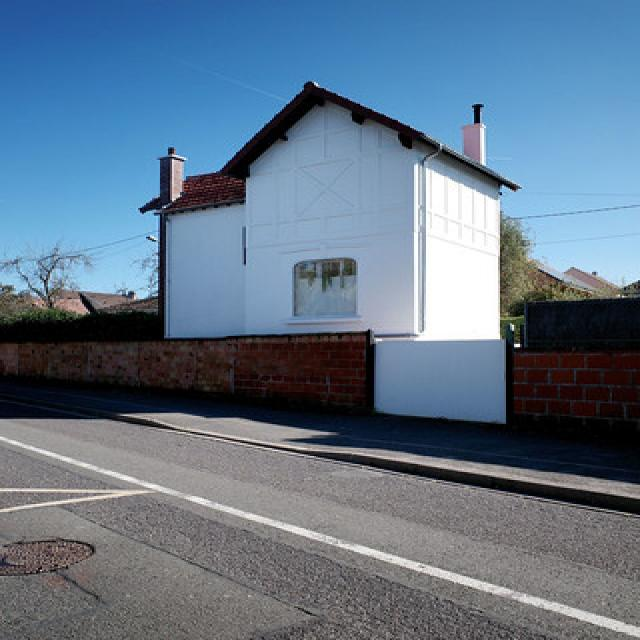Normal_building: (147, 71, 511, 414)
